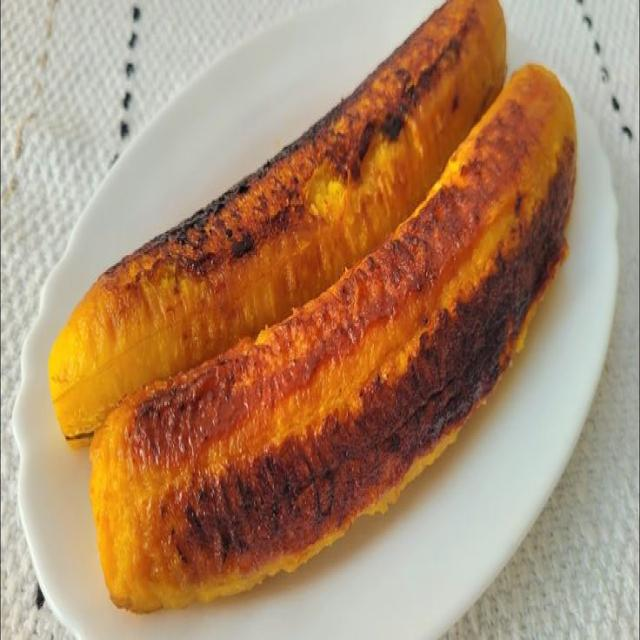platano: (58, 4, 593, 630)
